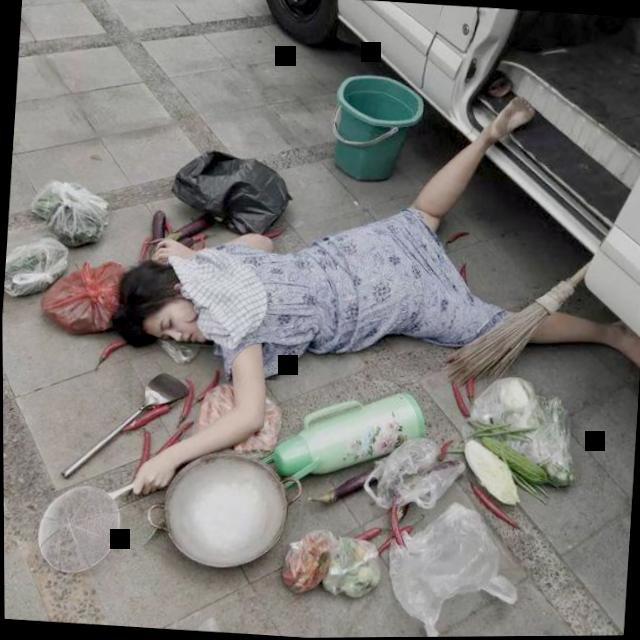Fall-Detected: (47, 37, 640, 555)
